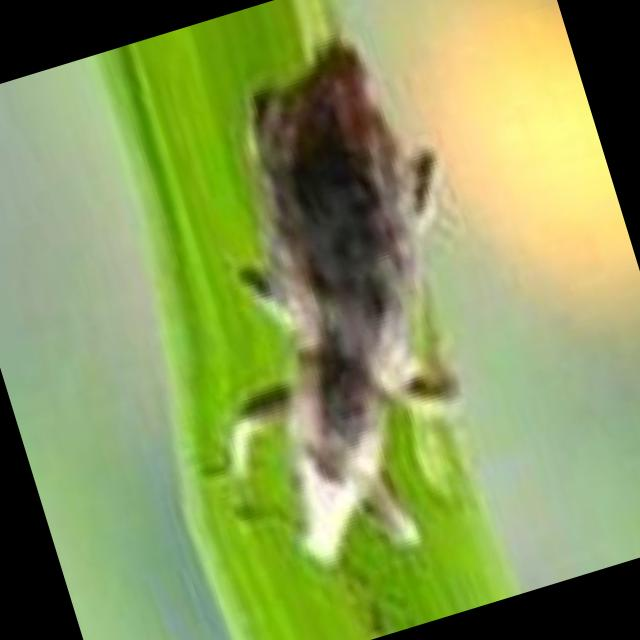rice-bug: (146, 17, 554, 590)
